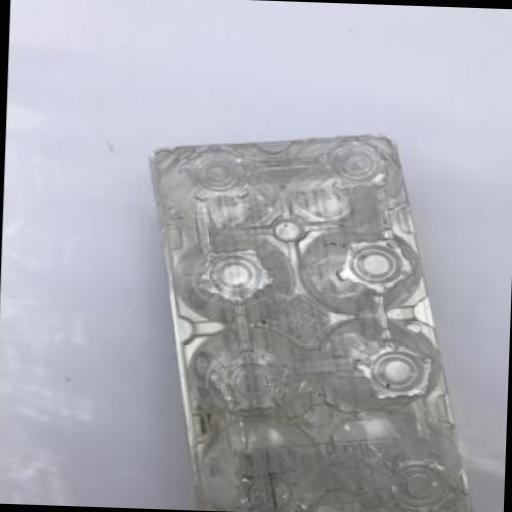plastic: (134, 124, 483, 512)
